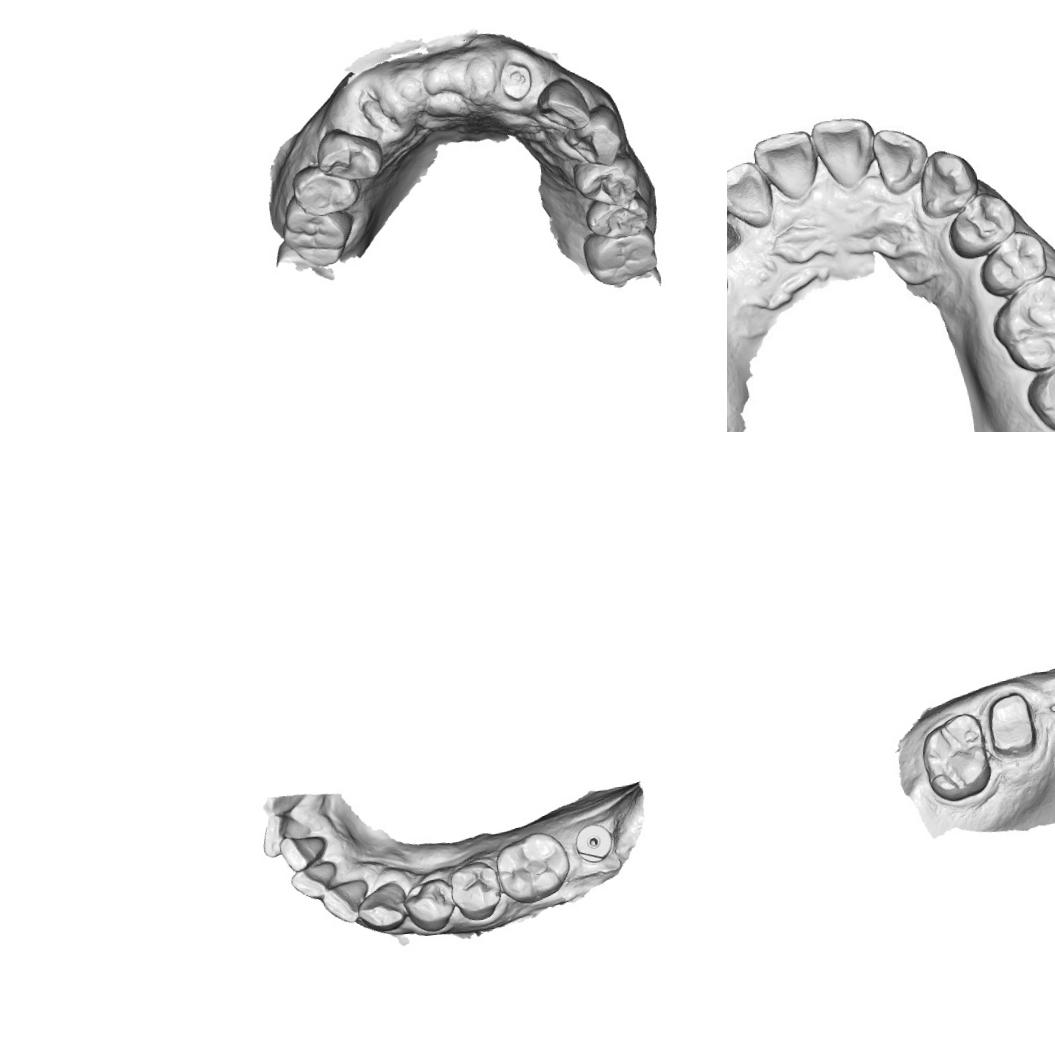canine: (564, 102, 628, 172), (915, 146, 978, 216), (352, 876, 410, 936)
crown: (978, 686, 1042, 762)
implant: (570, 820, 620, 870)
implant_plus: (727, 213, 740, 251)
incisor: (807, 112, 878, 192), (752, 126, 820, 202), (532, 72, 595, 138), (872, 122, 929, 194), (727, 158, 778, 231), (257, 808, 316, 860), (315, 875, 371, 928), (287, 856, 342, 909), (277, 831, 331, 876)
molar: (914, 710, 997, 808), (491, 828, 575, 908), (276, 194, 362, 272), (577, 224, 665, 292), (994, 279, 1055, 370), (1023, 346, 1055, 432)
premolar: (310, 121, 388, 186), (946, 194, 1016, 262), (288, 158, 362, 220), (976, 230, 1047, 292), (569, 153, 642, 211), (397, 871, 460, 937), (581, 187, 657, 241), (447, 856, 506, 925)
